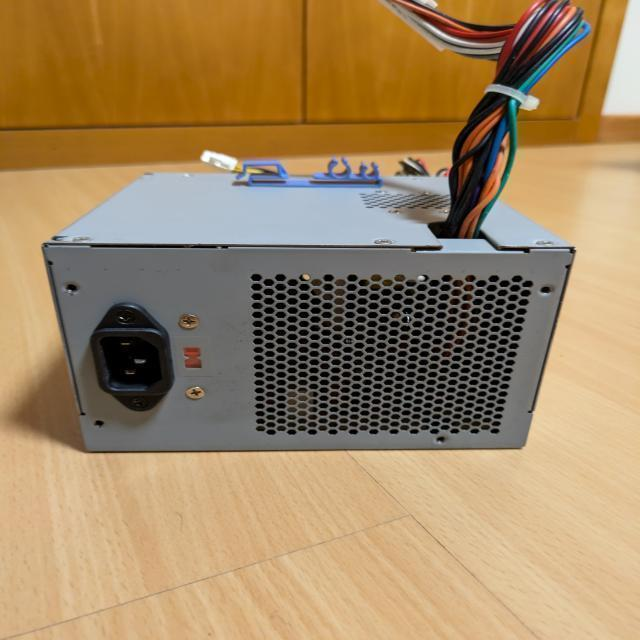PSU: (39, 172, 576, 454)
